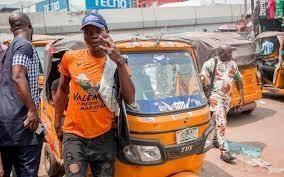keke: (38, 32, 213, 177)
